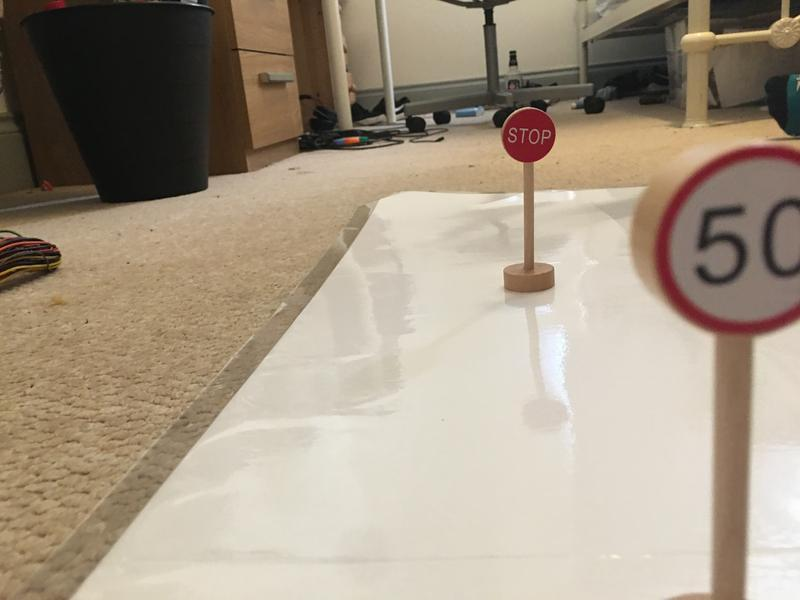Traffic_Sign_50: (648, 143, 800, 334)
Traffic_Sign_Stop: (504, 108, 555, 163)
